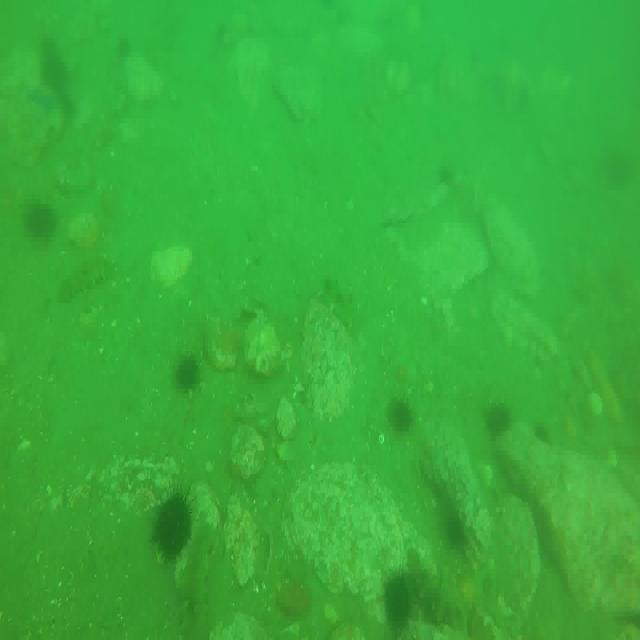echinus: (150, 496, 193, 558), (386, 569, 415, 633), (172, 351, 201, 395), (25, 199, 55, 241), (388, 392, 414, 438), (486, 402, 514, 443), (532, 416, 553, 455)
holothurian: (495, 296, 558, 364), (412, 558, 457, 636), (317, 270, 358, 334), (59, 258, 108, 307)
starfish: (32, 81, 62, 120)
